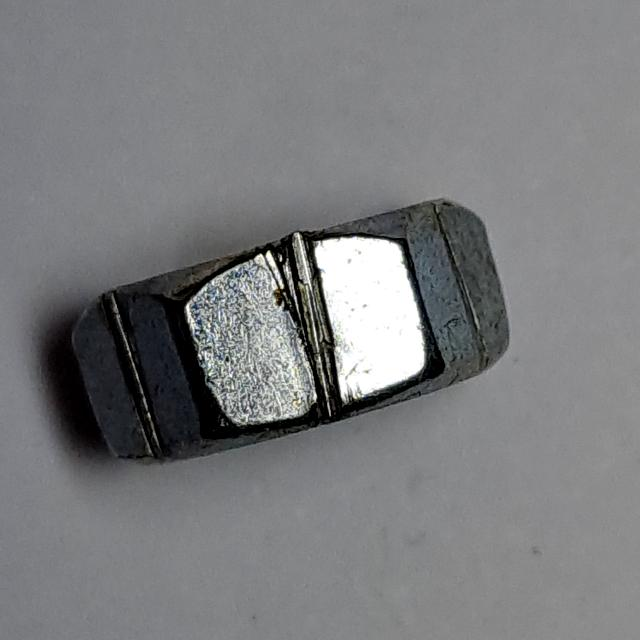Side_Scratches: (64, 175, 531, 481)
